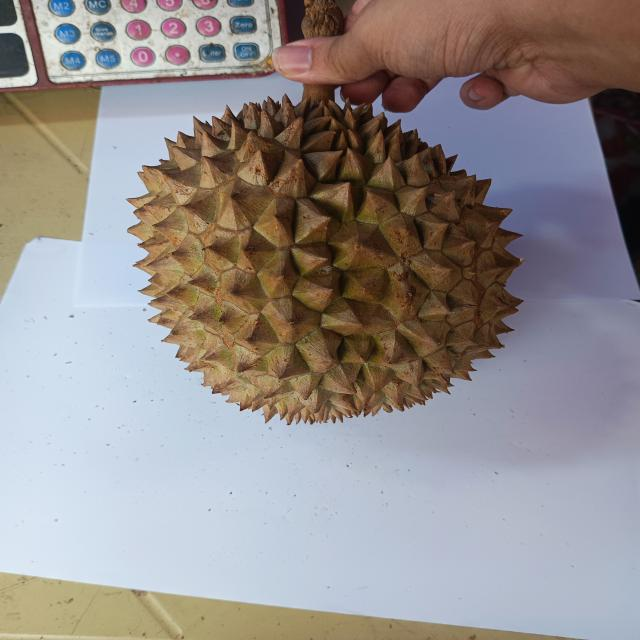mature: (129, 96, 522, 424)
